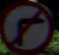Don't turn right: (3, 8, 49, 46)
